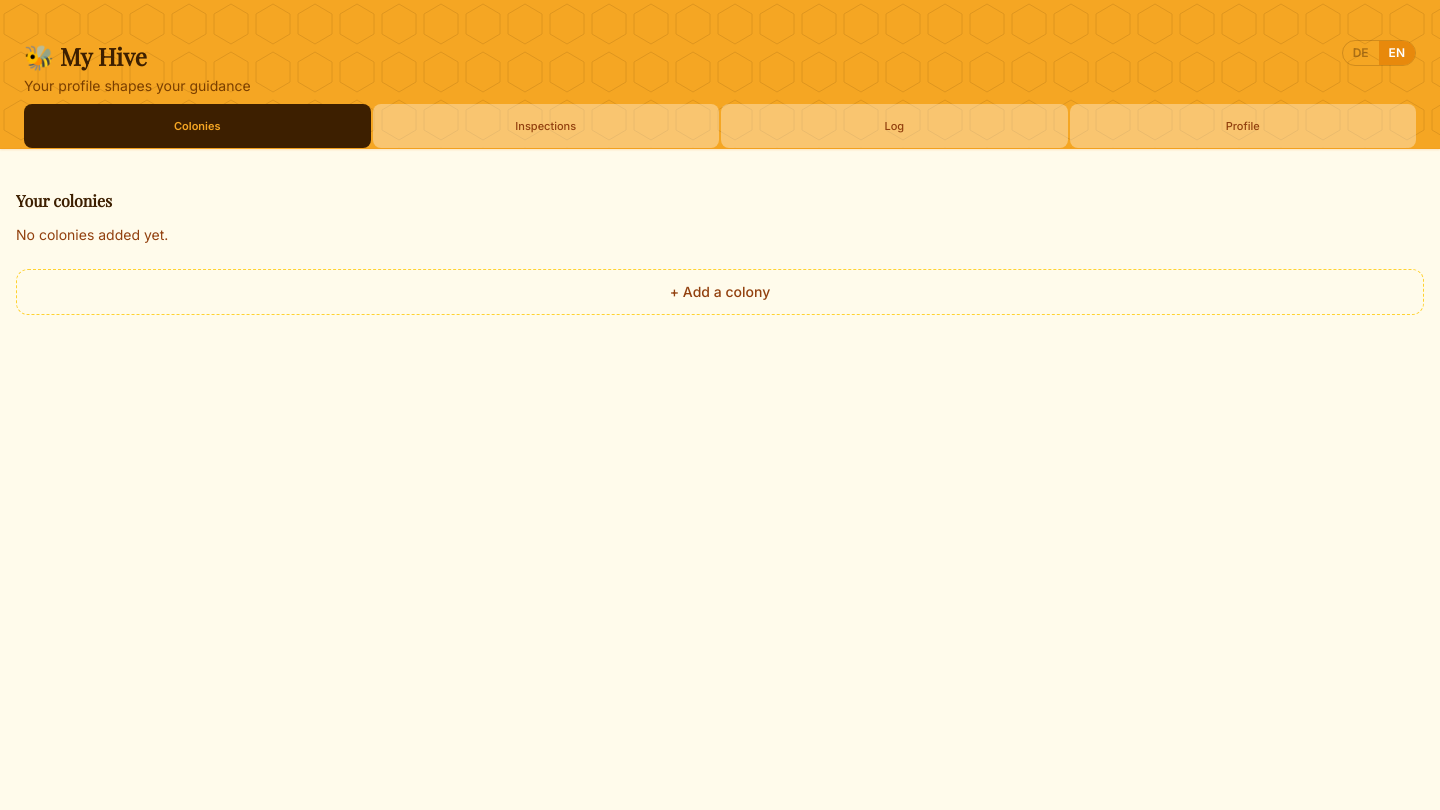
MyHiveScreen › highlights the current hive count option on profile tab
The image size is (1440, 810).
Click the button "Profile".
click(1243, 126)  # box [1070,104,1416,148]
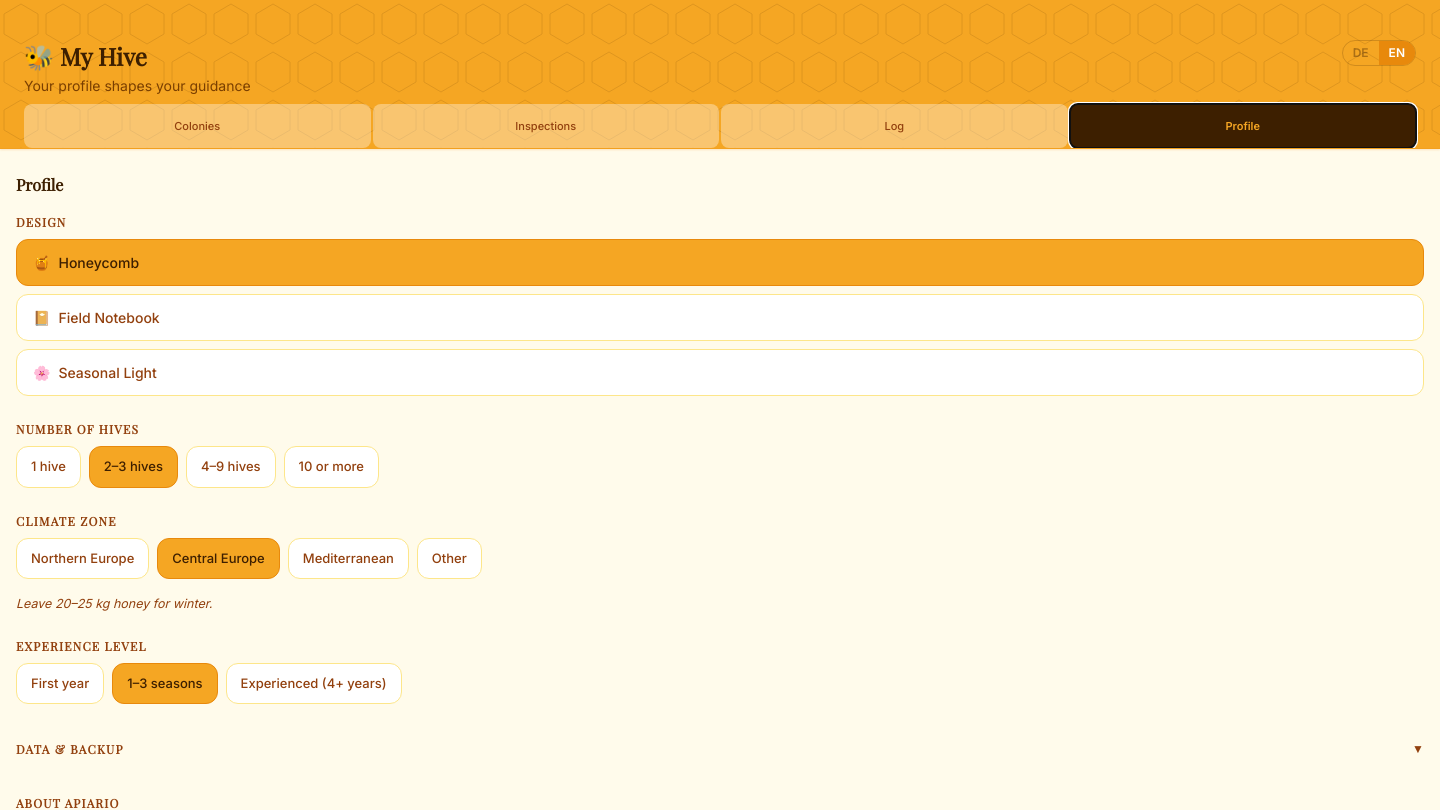
Now the button "2–3 hives" is shown, box [89,446,178,488]
